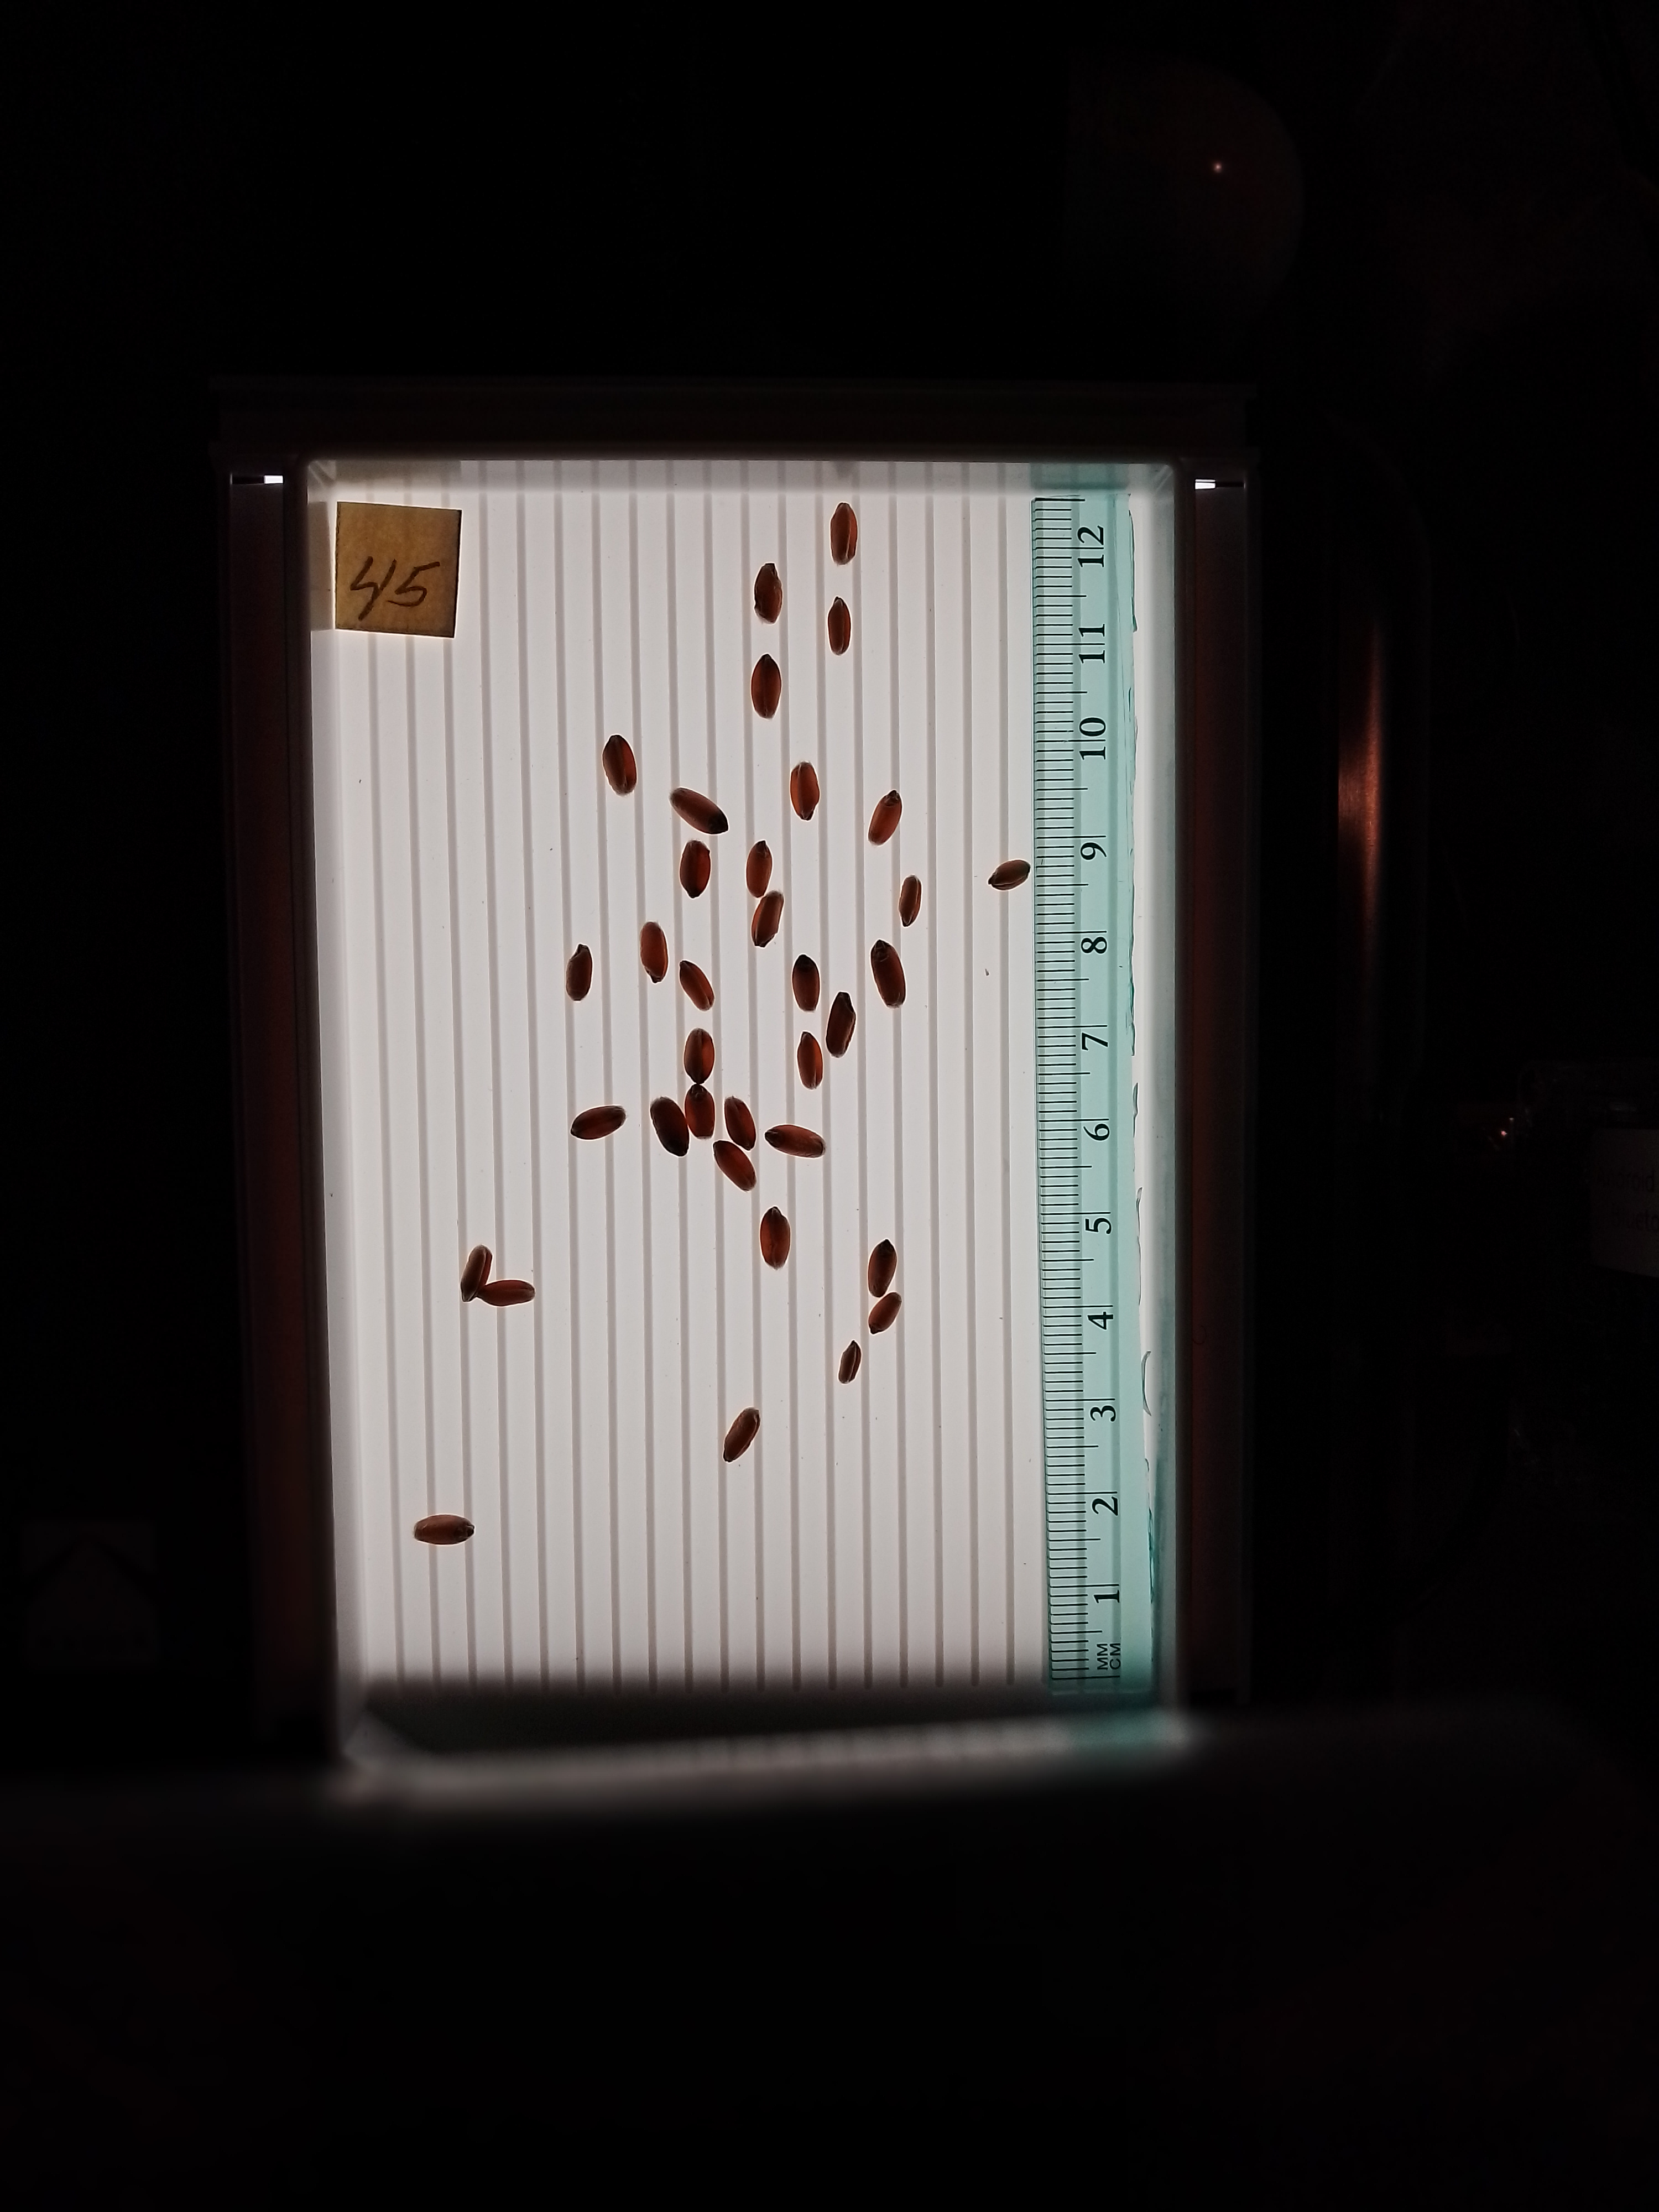seed mask: (673, 789, 727, 834), (871, 942, 906, 1007), (650, 1099, 688, 1157), (714, 1143, 755, 1191), (723, 1409, 760, 1461), (603, 737, 636, 794), (767, 1125, 824, 1158), (826, 995, 856, 1055), (751, 658, 781, 718), (640, 923, 669, 982), (680, 841, 711, 897), (870, 792, 903, 845), (572, 1106, 624, 1139), (789, 763, 819, 820), (760, 1211, 789, 1268), (415, 1515, 472, 1545), (755, 564, 782, 622), (746, 841, 774, 899), (753, 894, 782, 948), (477, 1280, 533, 1308), (831, 503, 857, 563), (462, 1247, 491, 1299), (868, 1242, 896, 1296), (680, 963, 713, 1008), (685, 1031, 714, 1082), (791, 958, 819, 1010), (725, 1097, 755, 1146), (566, 948, 592, 1001), (687, 1089, 714, 1139), (798, 1036, 823, 1089), (990, 859, 1030, 890), (830, 601, 852, 655), (870, 1294, 901, 1332), (899, 878, 922, 925), (838, 1343, 861, 1383)
